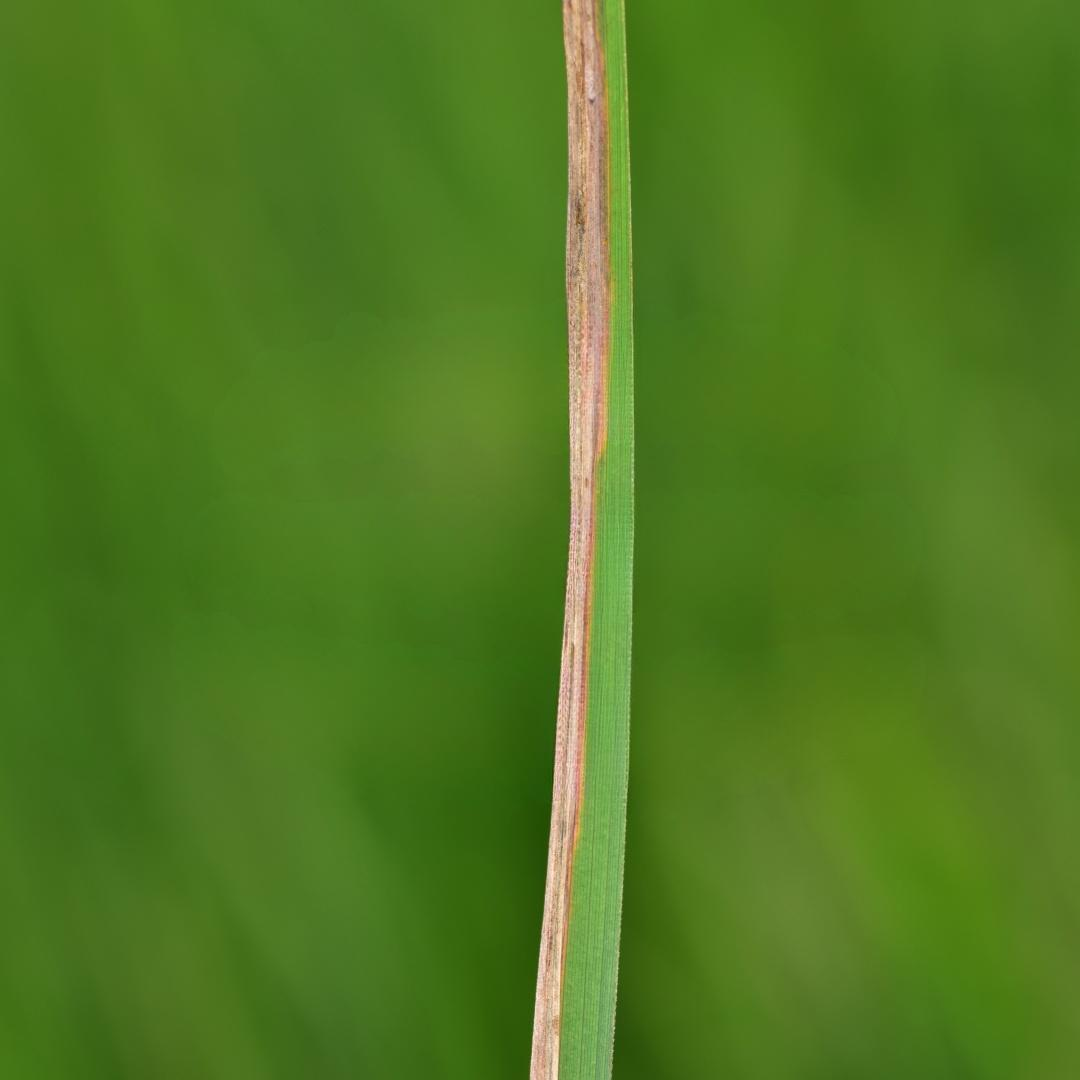BLB: (530, 0, 615, 1078)
LEAF: (530, 0, 634, 1079)
